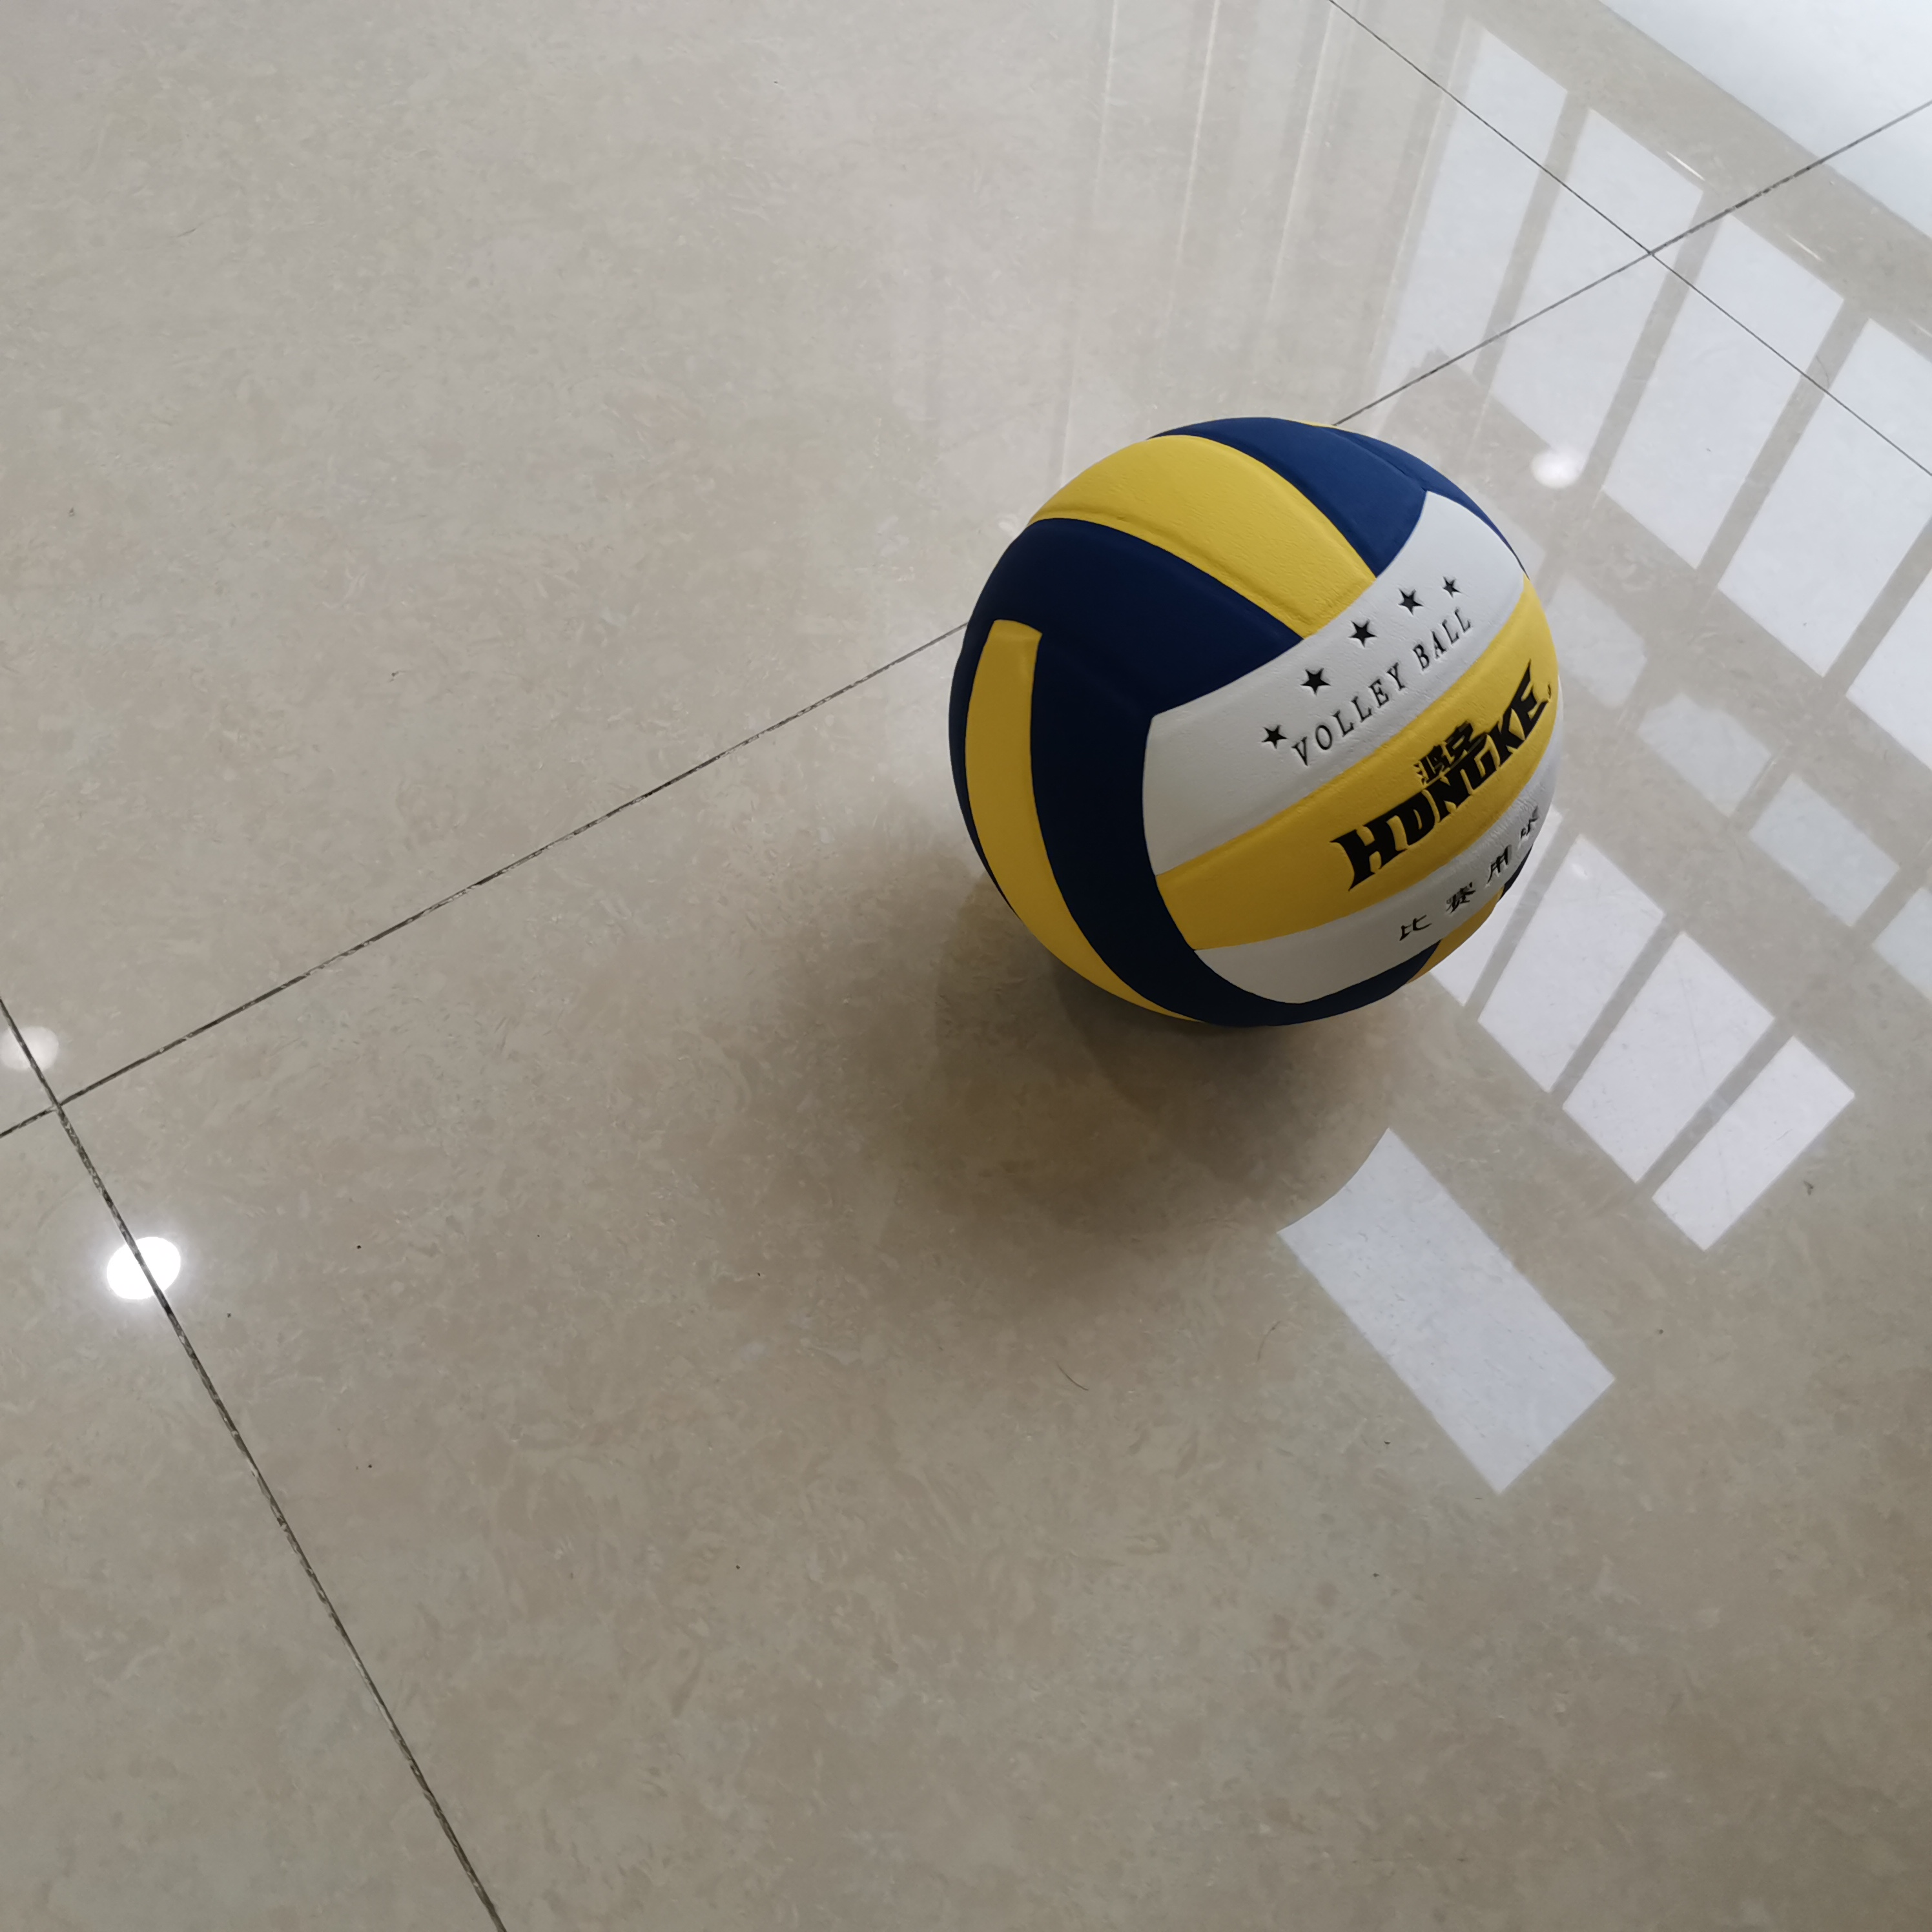volleyball: (947, 419, 1566, 1030)
